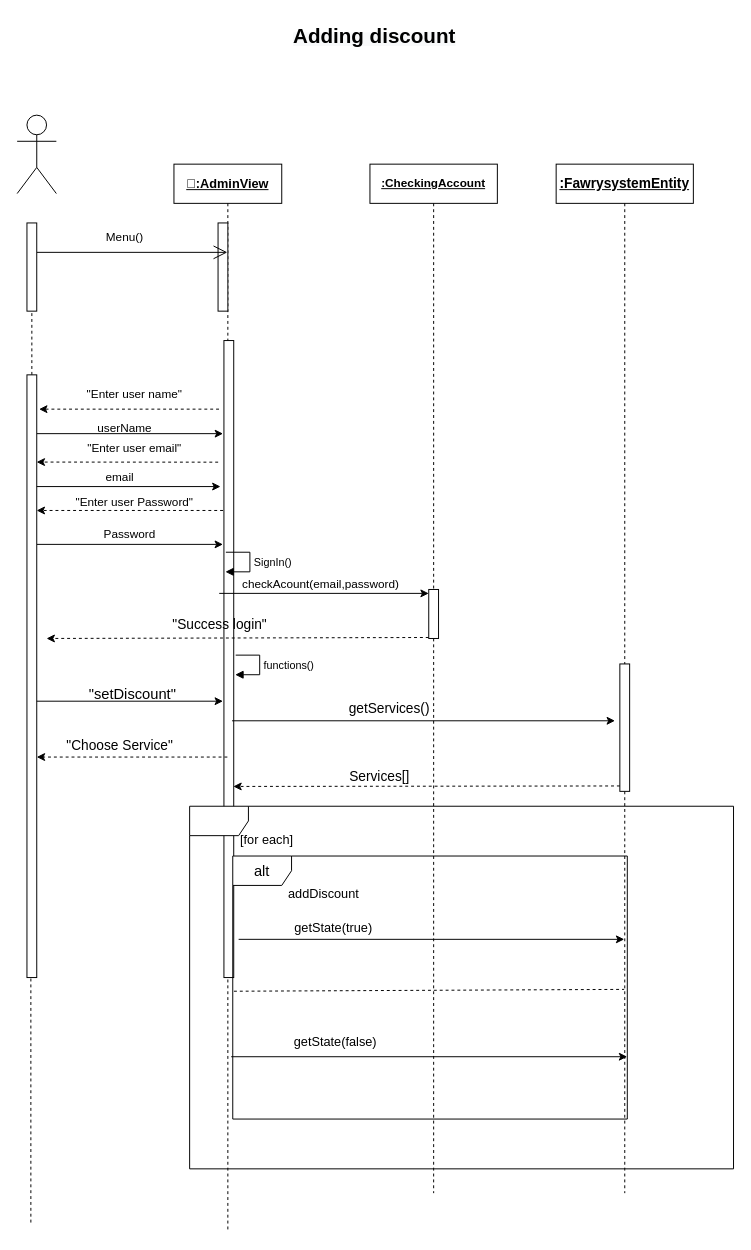
Image size: 751x1250. Some labels were removed from this diagram. The shapes that lost their labels are listed below. From the top down, each one's centre as x and y in pixels, then its label:
At point (36, 154): "Admin".
At point (461, 987): "loop".
